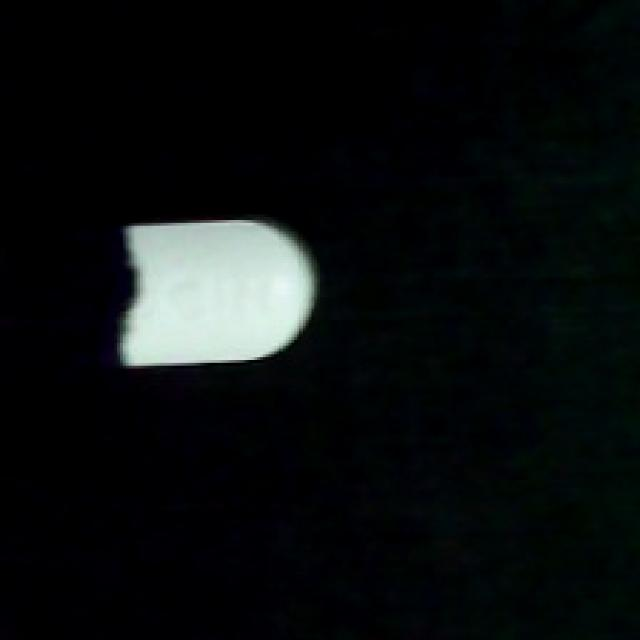defected: (111, 214, 320, 380)
